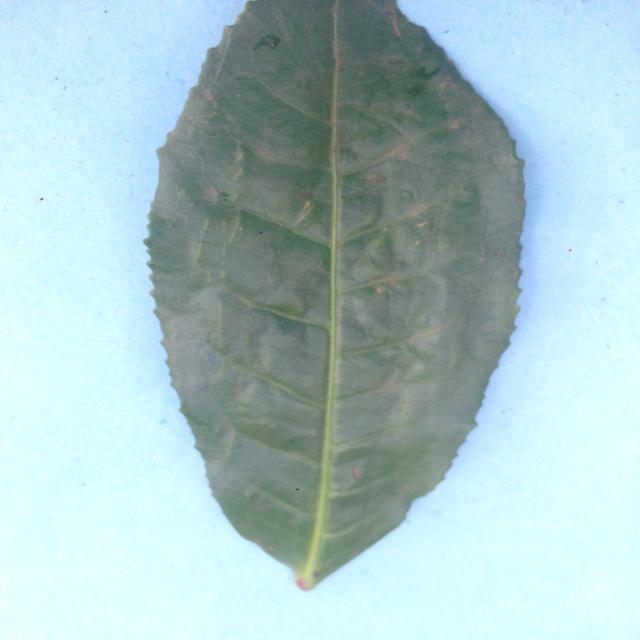Healthy: (94, 0, 550, 604)
